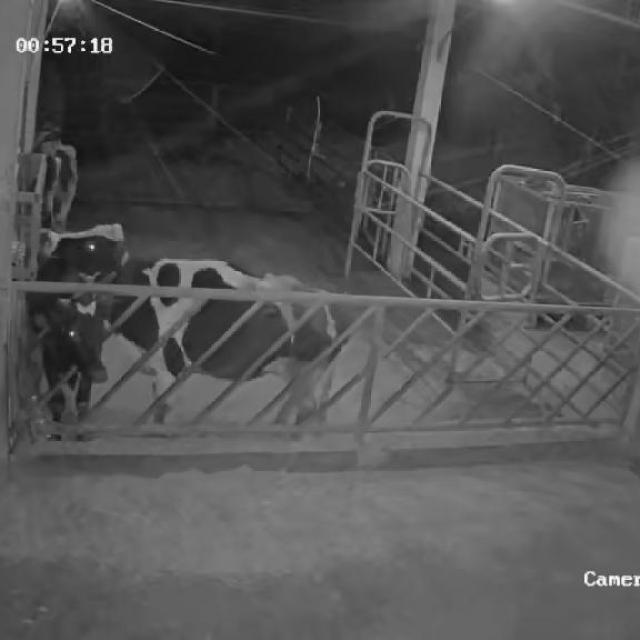standing: (32, 251, 118, 429), (28, 118, 83, 230)
